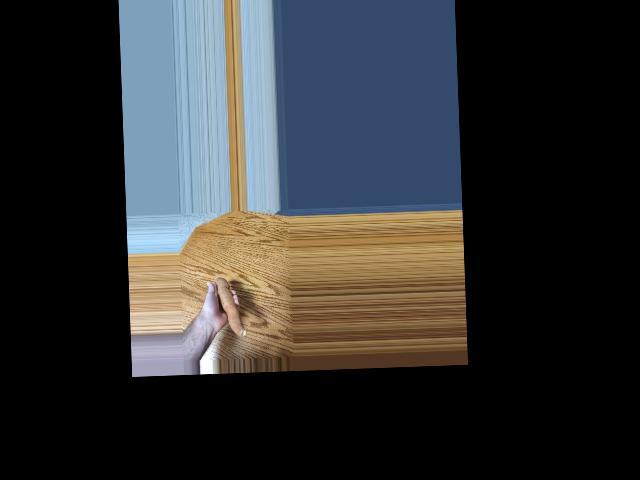sweet_potato: (214, 276, 246, 339)
